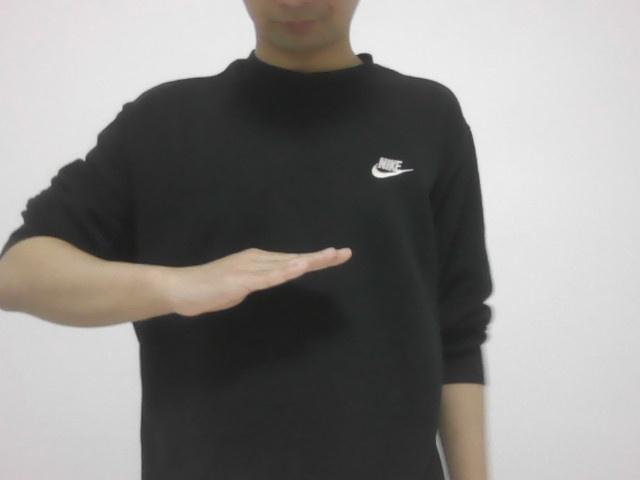safe: (165, 231, 355, 329)
